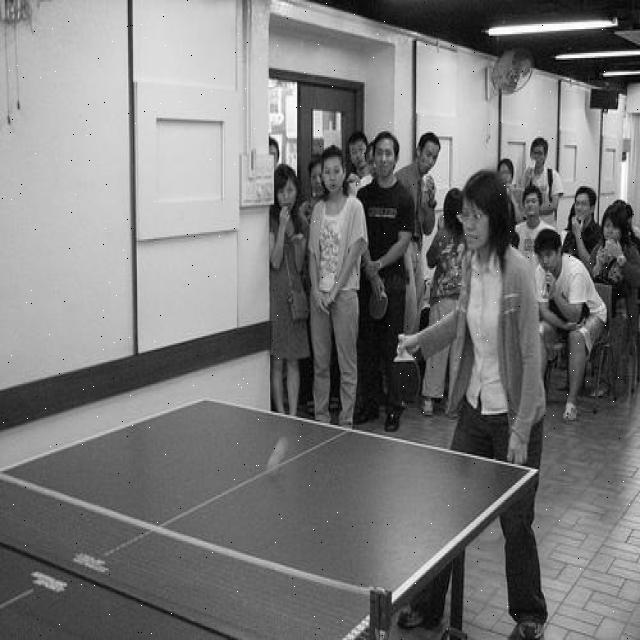ping-pong-ball: (266, 434, 289, 474)
